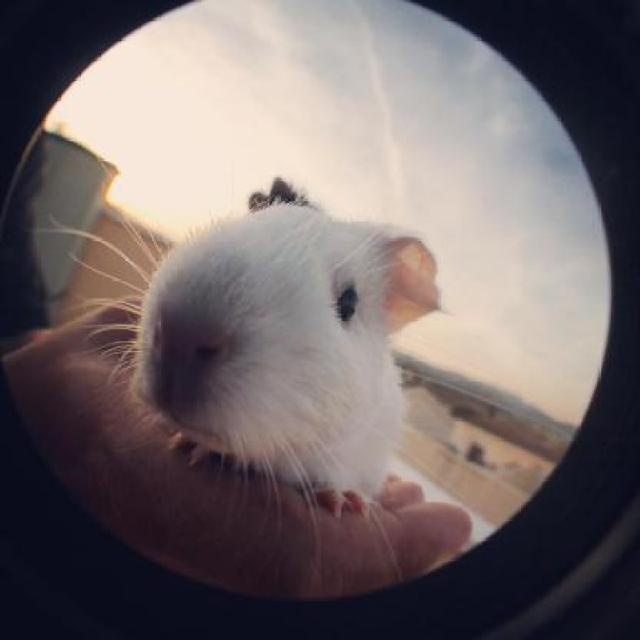Mouse: (115, 194, 440, 500)
